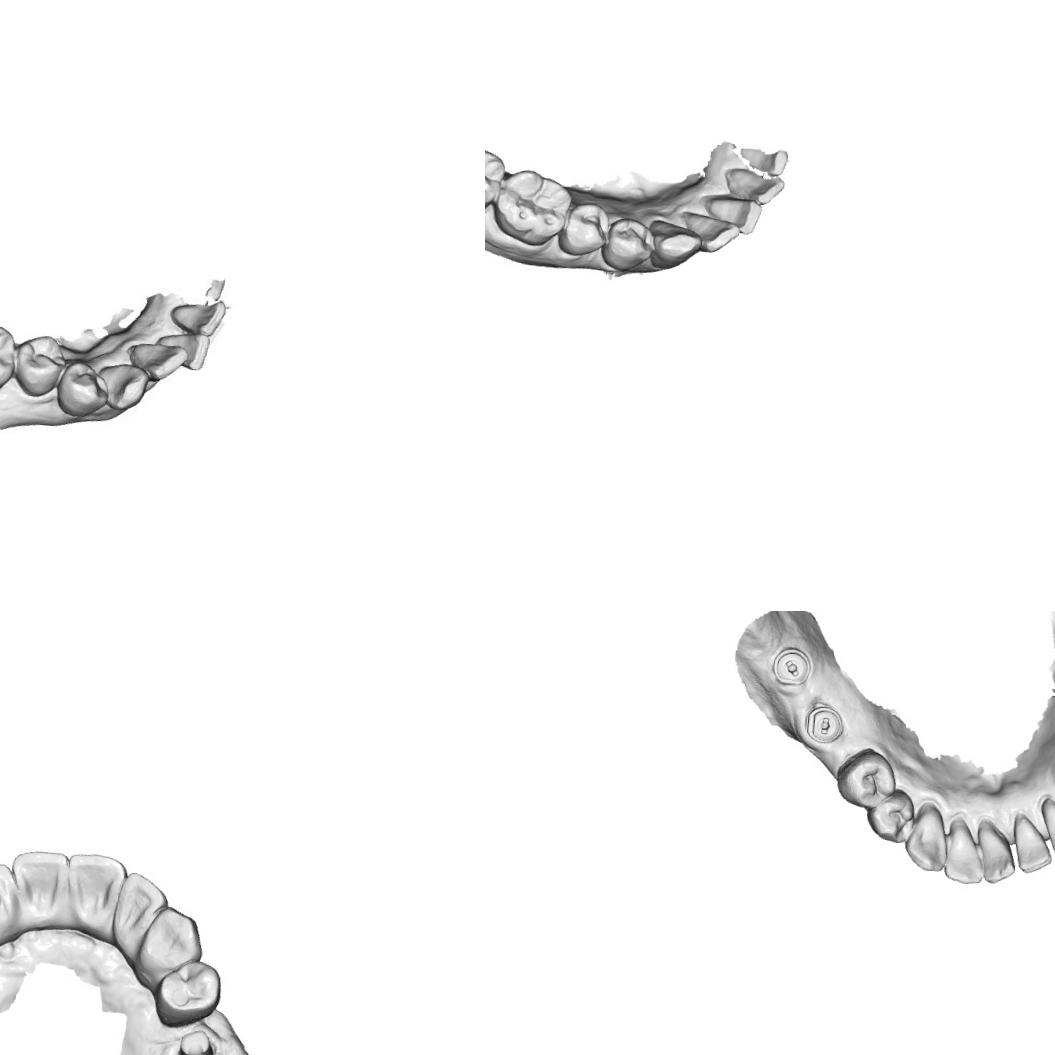abutment: (173, 1027, 217, 1055)
canine: (136, 903, 206, 984), (644, 214, 708, 274), (901, 802, 951, 876), (100, 362, 148, 412)
implant_minus: (766, 642, 814, 689), (802, 701, 848, 747)
incisor: (62, 850, 128, 937), (109, 869, 170, 960), (5, 846, 68, 930), (941, 815, 991, 889), (971, 818, 1020, 886), (676, 205, 740, 256), (164, 294, 229, 342), (1007, 812, 1055, 876), (719, 164, 787, 207), (702, 192, 764, 237), (129, 337, 184, 384), (156, 329, 210, 373), (1035, 795, 1055, 861), (0, 859, 18, 921)
molar: (492, 163, 573, 251), (485, 133, 511, 222), (0, 312, 22, 399)
premolar: (151, 956, 224, 1031), (830, 744, 900, 812), (10, 330, 69, 402), (556, 198, 614, 260), (599, 214, 658, 274), (56, 358, 110, 422), (864, 784, 918, 846)
